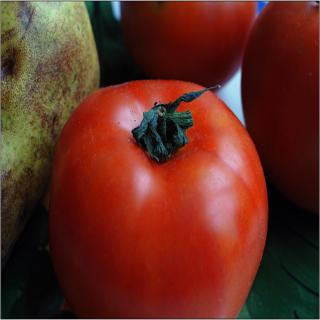tomato: (49, 64, 268, 320), (240, 1, 320, 213), (122, 0, 256, 92)
